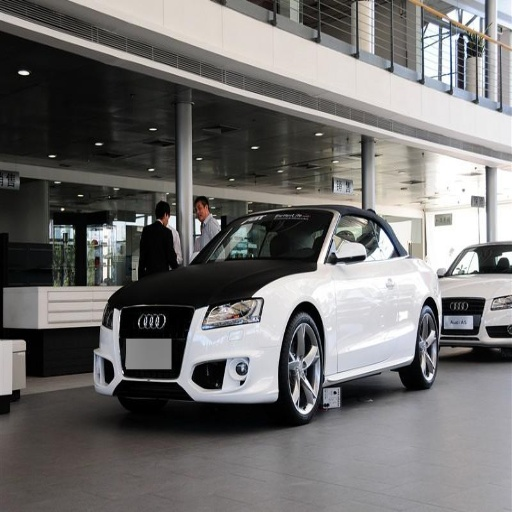back_glass: (372, 214, 419, 355)
back_right_light: (93, 305, 282, 401)
front_bumper: (195, 209, 332, 270)
front_glass: (325, 210, 390, 369)
front_left_door: (202, 294, 264, 329)
front_right_light: (116, 262, 291, 306)
trunk: (280, 314, 323, 424), (401, 306, 437, 389)
